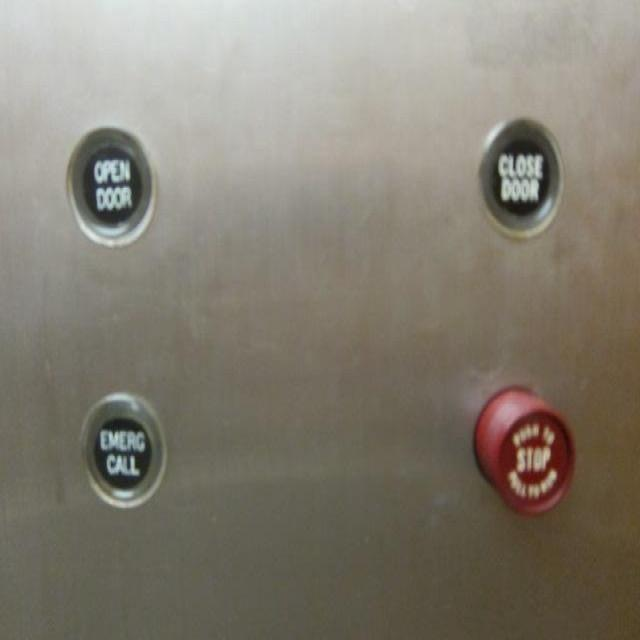text_close: (474, 112, 566, 241)
text_emerg: (76, 388, 167, 512)
text_open hold: (62, 118, 158, 250)
text_stop: (472, 382, 577, 518)
